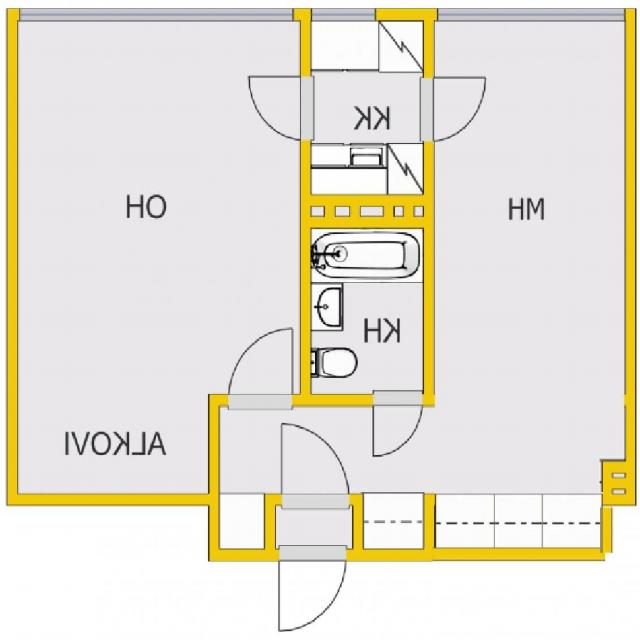door: (280, 548, 347, 636), (282, 418, 348, 506), (229, 321, 293, 405), (245, 76, 312, 140), (424, 78, 490, 141), (373, 392, 420, 458)
